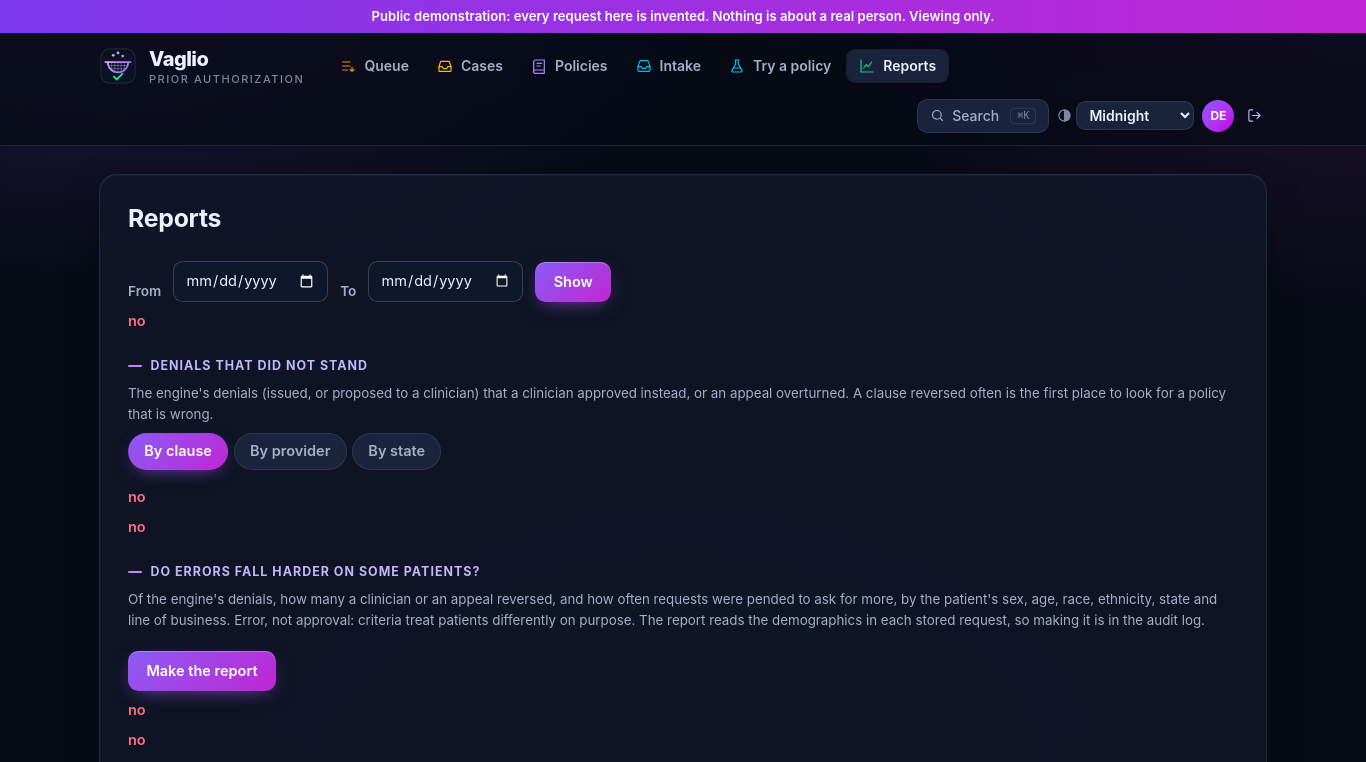
Test: clinician denials and reports › shows a demonstration's viewer the fairness report, with no reversals as 0
Click the button "Make the report".
click(202, 671)  # box [128,651,276,691]
(page scrolled)
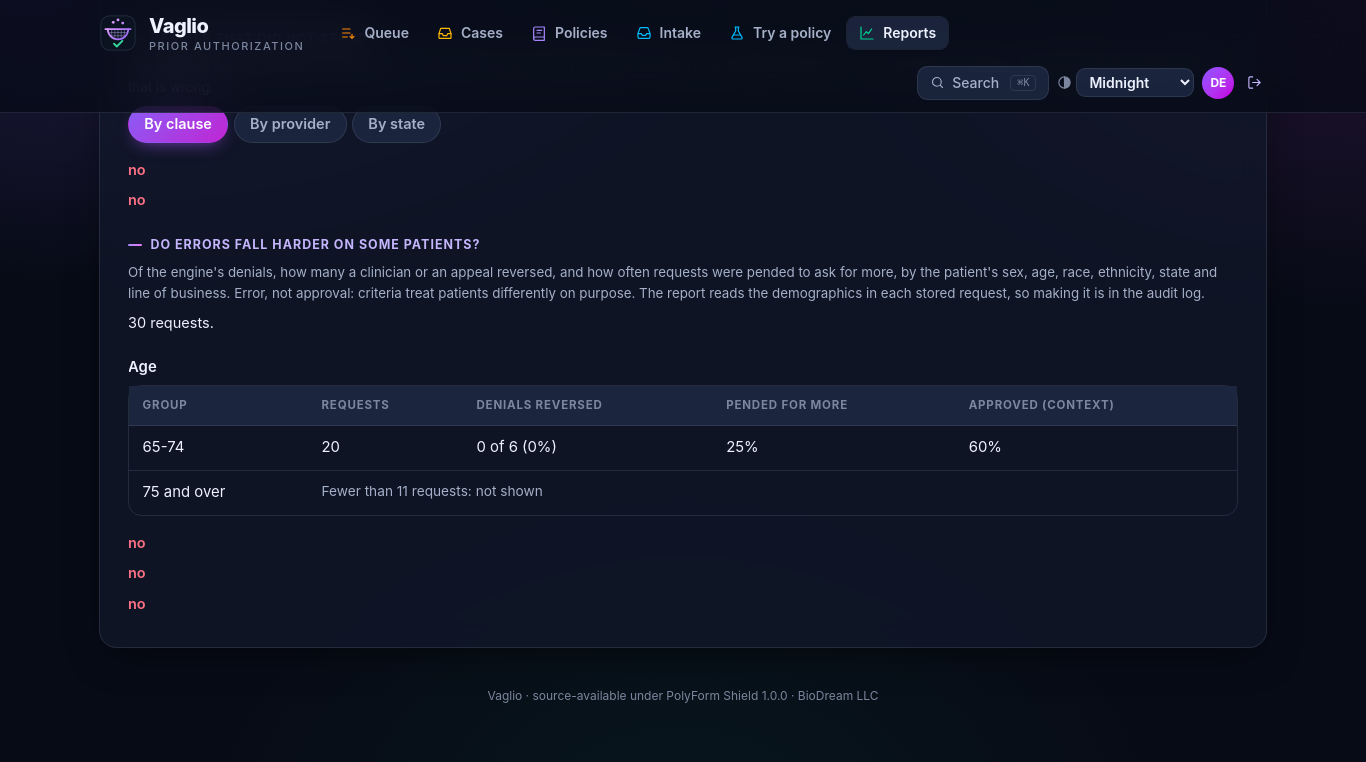
Check: the text "0 of 6 (0%)" is shown, box [463,426,713,471]
